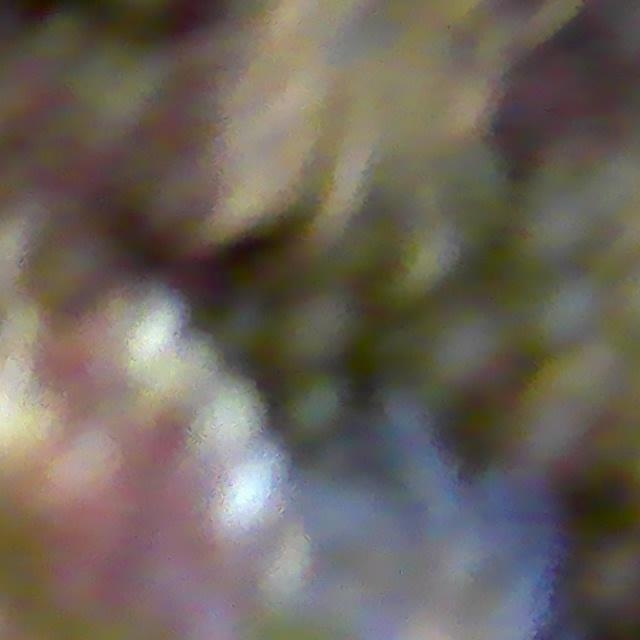SeaGrape: (193, 378, 267, 458), (212, 448, 286, 528), (579, 539, 640, 623), (283, 371, 350, 441)
